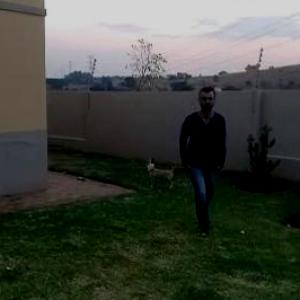follow: (175, 72, 230, 241)
